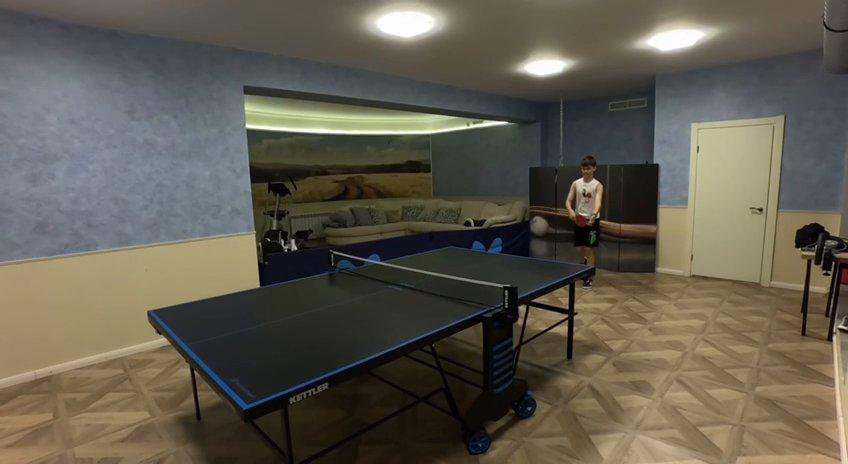Net: (327, 251, 515, 308)
Player1: (566, 155, 605, 286)
Table: (149, 247, 594, 409)
